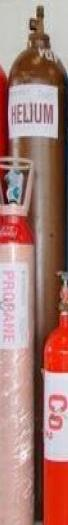cylinder: (0, 1, 68, 525)
